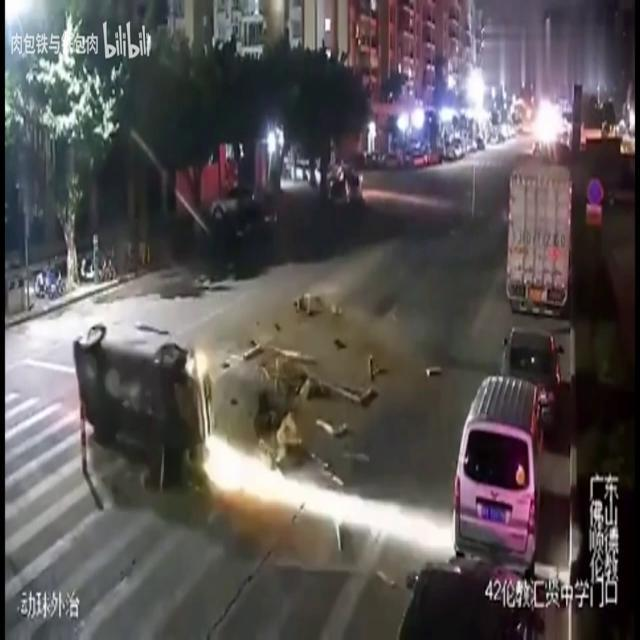normal: (453, 327, 597, 586), (474, 150, 604, 327)
single accident: (67, 301, 350, 499)
